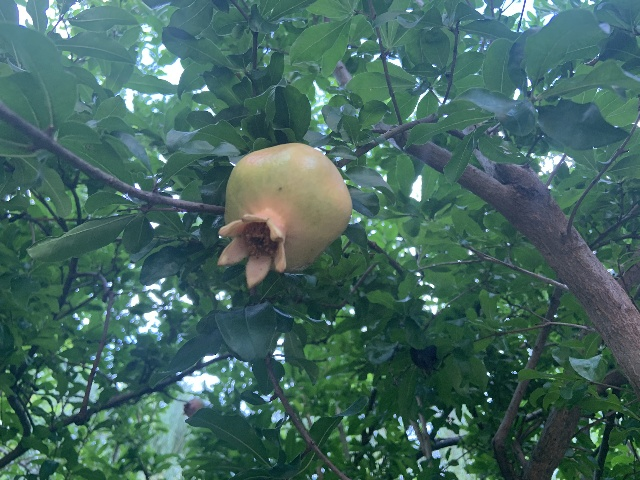mid-growth: (216, 142, 352, 290)
